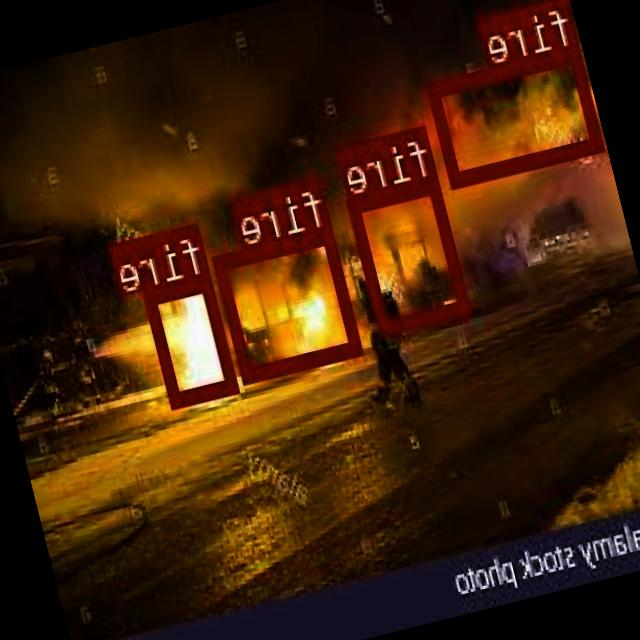fire: (428, 45, 604, 184), (214, 223, 364, 379), (349, 174, 472, 330), (144, 270, 241, 404)
